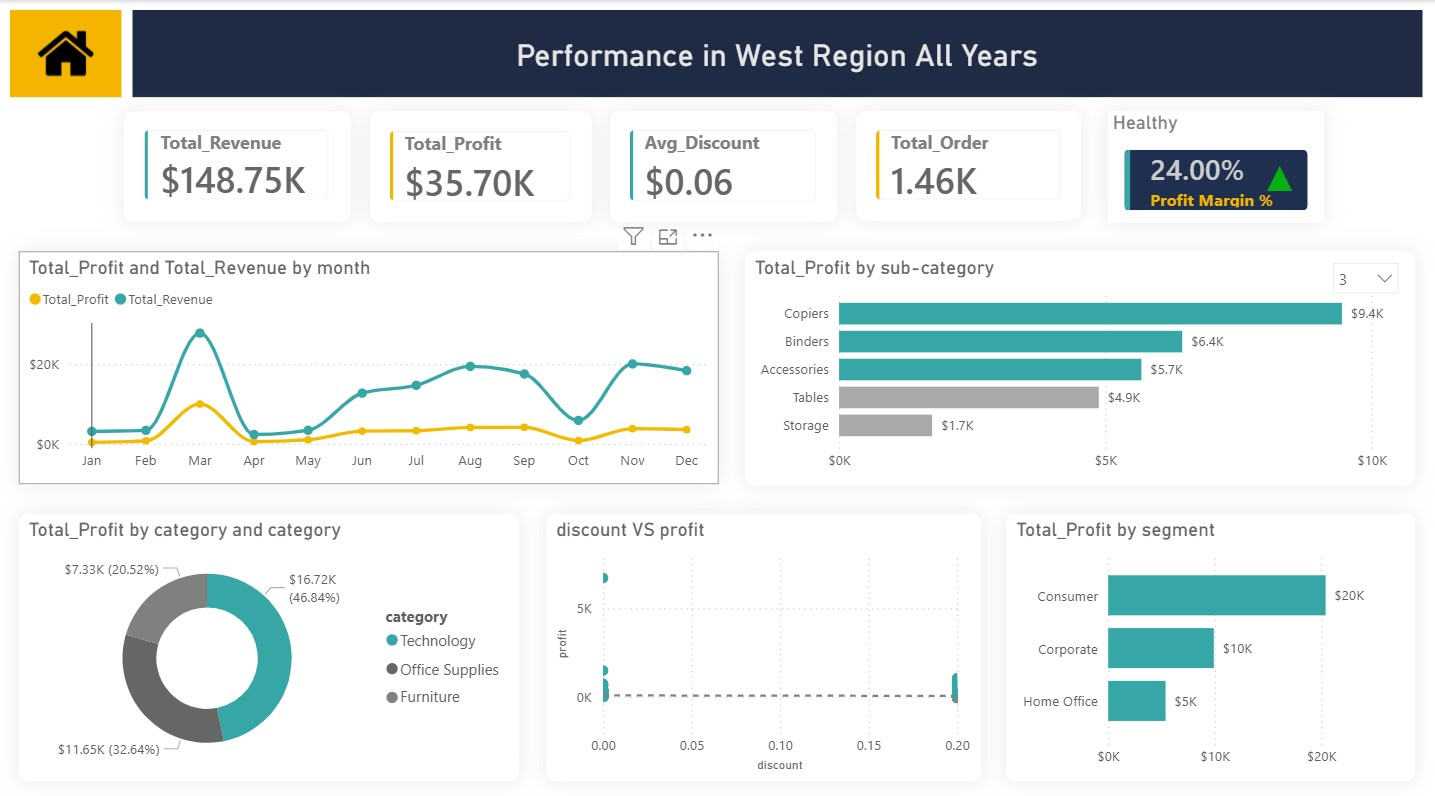

The page's visual inventory and layout, read from the dashboard file:
{"tool":"powerbi","page":{"name":"Regional Performance","canvas":[1280,720],"ordinal":3},"visuals":[{"type":"actionButton","box":[8.7,8.7,99.6,77.9],"z":0},{"type":"card","fields":{"Values":["dim_location.Region_Page_Title"]},"box":[118,8.9,1148.8,77.9],"z":1000},{"type":"lineChart","fields":{"Category":["dim_date.month"],"Y":["_Measures.Total_Profit","_Measures.Total_Revenue"]},"box":[16.8,223.9,623.2,208.5],"z":2000},{"type":"cardVisual","fields":{"Data":["_Measures.Total_Sales"]},"box":[110.3,99.5,202.5,98.3],"z":3000},{"type":"cardVisual","fields":{"Data":["_Measures.Total_Profit"]},"box":[329.3,99.5,197.8,98.3],"z":4000},{"type":"cardVisual","fields":{"Data":["_Measures.Avg_Discount"]},"box":[543.5,99.5,202.5,98.3],"z":5000},{"type":"cardVisual","fields":{"Data":["_Measures.Total_Order"]},"box":[762.2,99.5,200.1,97.9],"z":6000},{"type":"scatterChart","title":"discount VS profit","fields":{"X":["fact_sales.discount"],"Y":["fact_sales.profit"]},"box":[486.6,457.8,387.1,238.5],"z":7000},{"type":"barChart","fields":{"Category":["dim_customer.segment"],"Y":["_Measures.Total_Profit"]},"box":[896.5,457.8,364.3,238.5],"z":8000},{"type":"group","id":"g1","title":"Group 1","box":[986,99.5,192.6,99.1],"z":9000},{"type":"barChart","fields":{"Category":["dim_product.sub-category"],"Y":["_Measures.Total_Profit"]},"box":[664,224.1,596.9,208.5],"z":10000},{"type":"donutChart","fields":{"Category":["dim_product.category"],"Series":["dim_product.category"],"Y":["_Measures.Total_Profit"]},"box":[16.8,457.8,445.8,238.5],"z":11000},{"type":"cardVisual","fields":{"Data":["_Measures.Profit Margin %"]},"box":[986,99.5,193,99],"z":13000,"group":"g1"},{"type":"card","fields":{"Values":["_Measures.Profit_Margin Icon"]},"box":[1103.4,138.5,73.1,40.4],"z":16000,"group":"g1"}]}

Visuals, with their boxes in screenshot pixels (x1, y1, x2, y2), scaled from the page's 1280x720 canvas onto the 1435x796 screenshot:
actionButton: [x1=10, y1=10, x2=121, y2=96]
card - dim_location.Region_Page_Title: [x1=132, y1=10, x2=1420, y2=96]
lineChart - dim_date.month x _Measures.Total_Profit: [x1=19, y1=248, x2=718, y2=478]
cardVisual - _Measures.Total_Sales: [x1=124, y1=110, x2=351, y2=219]
cardVisual - _Measures.Total_Profit: [x1=369, y1=110, x2=591, y2=219]
cardVisual - _Measures.Avg_Discount: [x1=609, y1=110, x2=836, y2=219]
cardVisual - _Measures.Total_Order: [x1=854, y1=110, x2=1079, y2=218]
"discount VS profit" scatterChart: [x1=546, y1=506, x2=979, y2=770]
barChart - dim_customer.segment x _Measures.Total_Profit: [x1=1005, y1=506, x2=1413, y2=770]
"Group 1" group: [x1=1105, y1=110, x2=1321, y2=220]
barChart - dim_product.sub-category x _Measures.Total_Profit: [x1=744, y1=248, x2=1414, y2=478]
donutChart - dim_product.category x dim_product.category: [x1=19, y1=506, x2=519, y2=770]
cardVisual - _Measures.Profit Margin %: [x1=1105, y1=110, x2=1322, y2=219]
card - _Measures.Profit_Margin Icon: [x1=1237, y1=153, x2=1319, y2=198]
